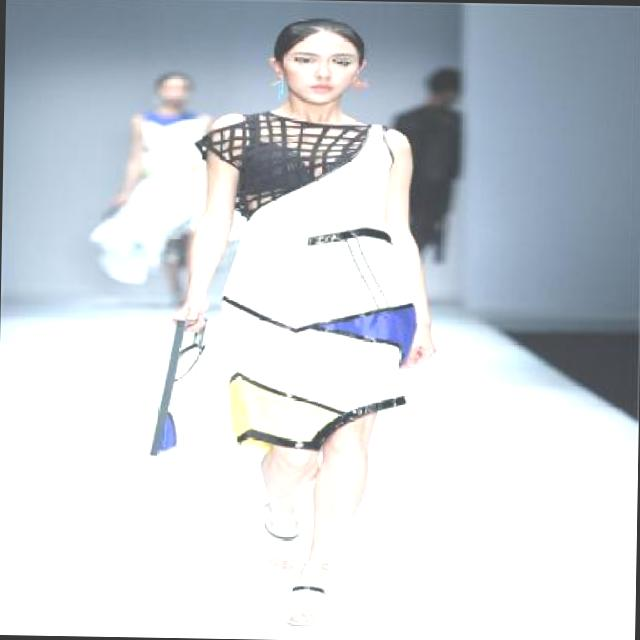Person: (195, 20, 414, 611)
